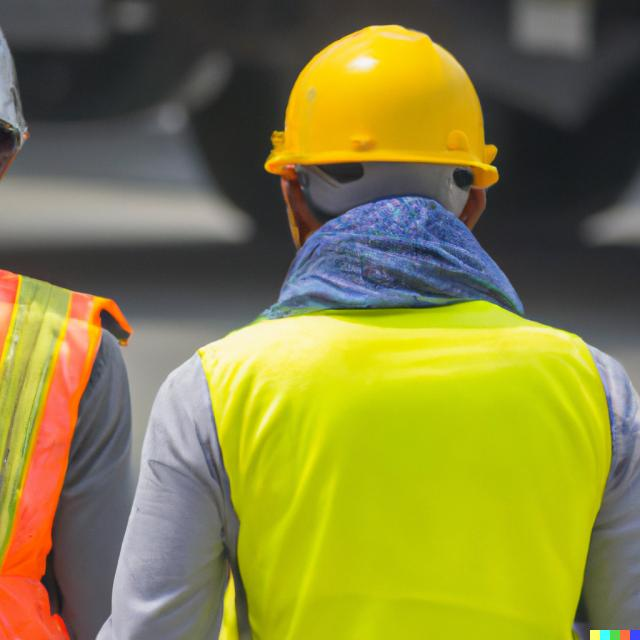Reflective-Jacket: (186, 225, 632, 640), (0, 245, 113, 640)
Safety-Helmet: (265, 23, 503, 182), (0, 0, 35, 149)
